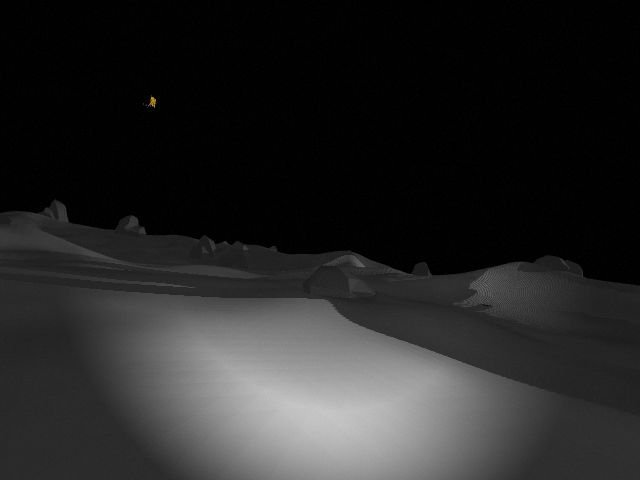cubesat: (141, 95, 160, 110)
